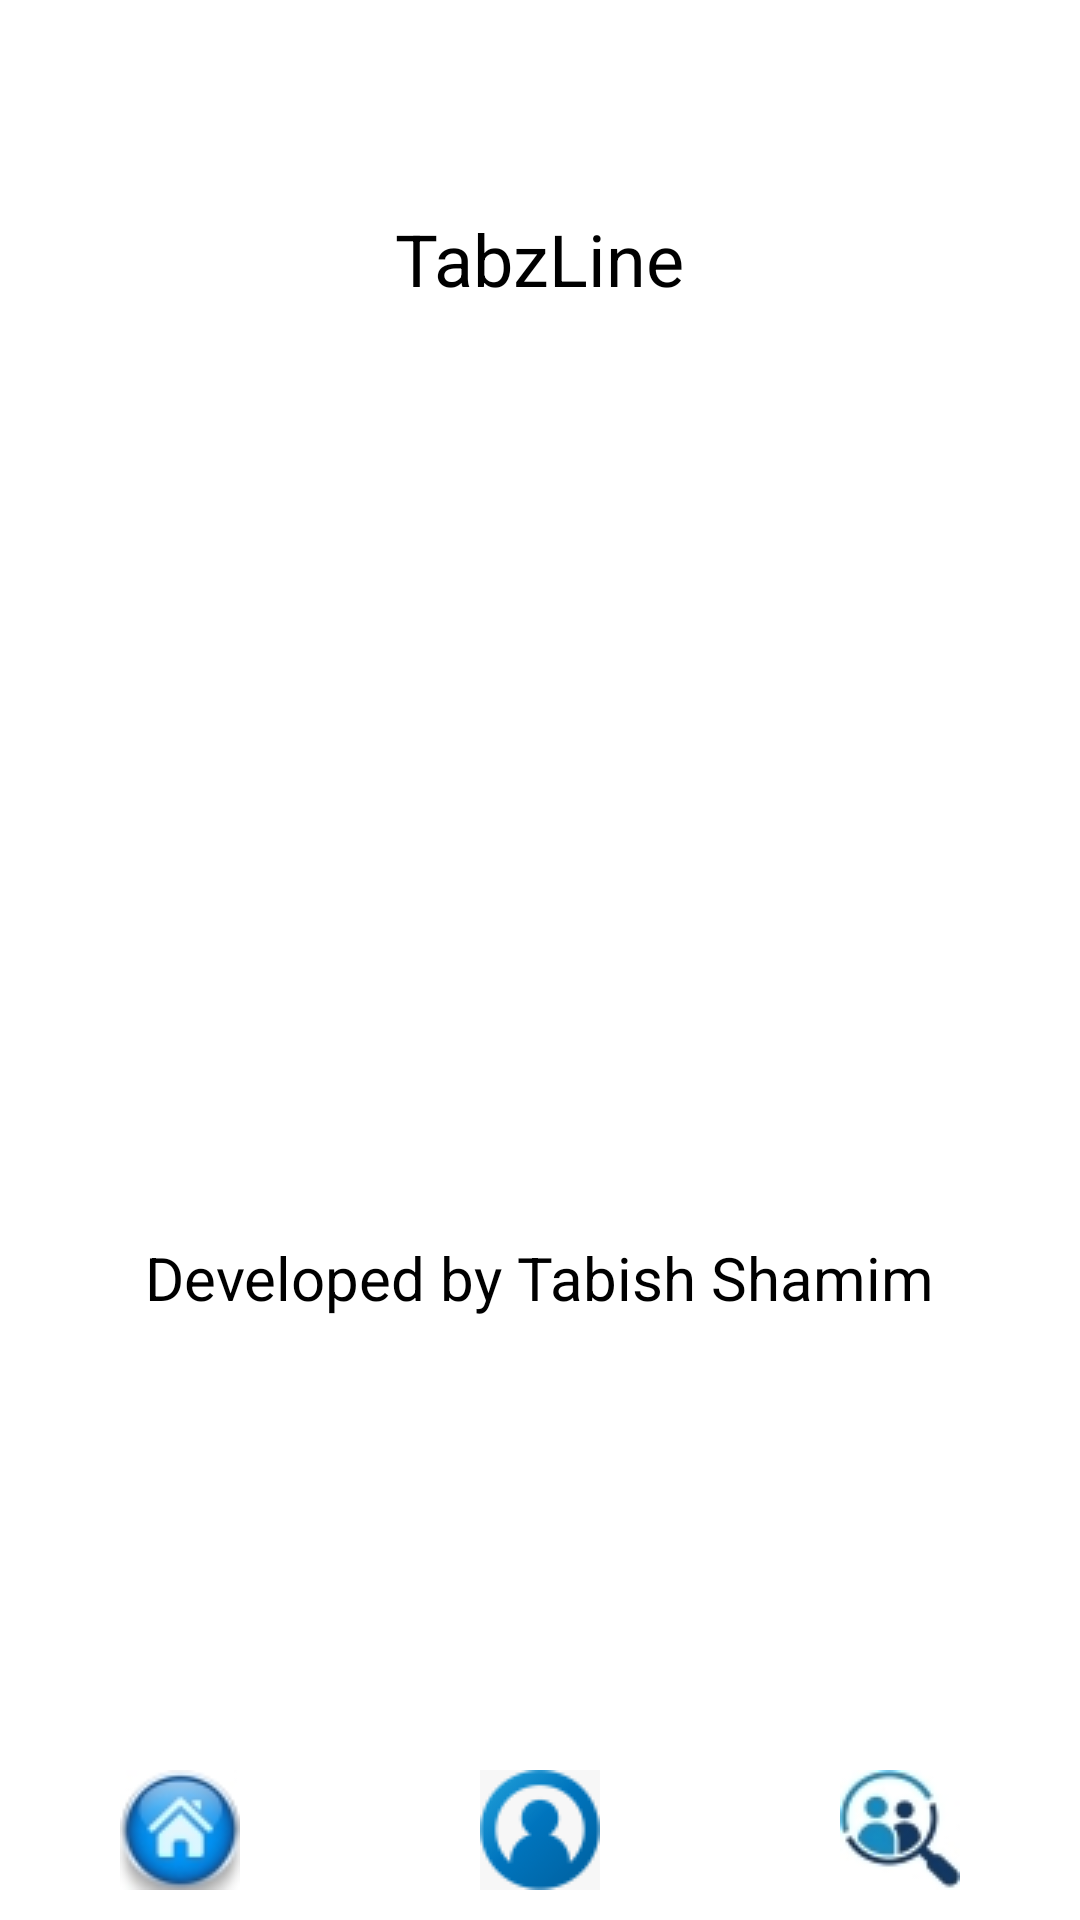

Named icons in this screenshot (1080 x 1920) and their centers, [x,y]:
homeicon: [180,1831]
myprofile: [540,1830]
search: [900,1829]
